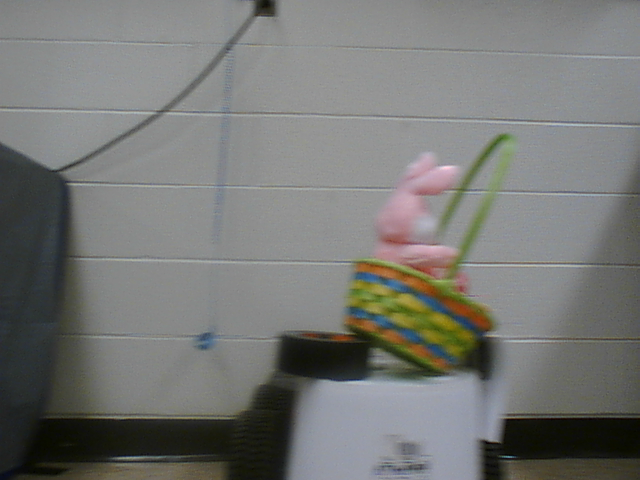bunny: (334, 127, 522, 382)
